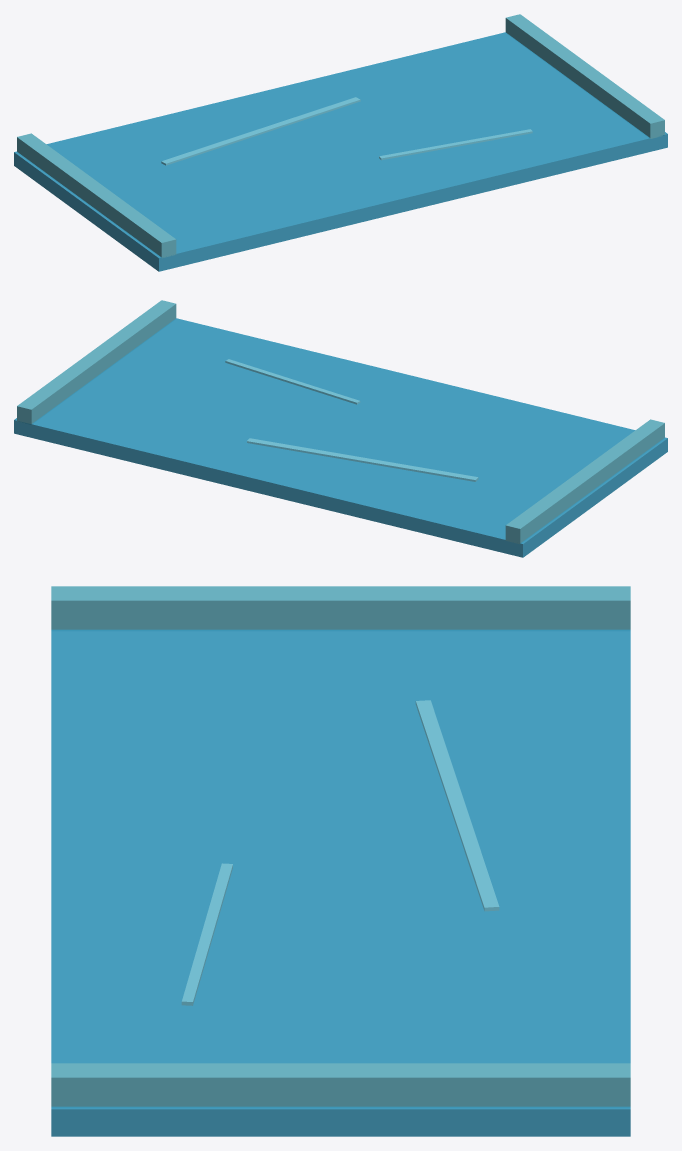
The model's file is track_water_slide_3lane.glb.
3 views of the same model, one above another, from view 1: azimuth 30°, elevation 25°; view 2: azimuth 150°, elevation 25°; view 3: azimuth 270°, elevation 25° (orthographic). The views are drawn at different scales.
Visible parts, largest first — view 1: track_water_slide_3lane; view 2: track_water_slide_3lane; view 3: track_water_slide_3lane.
Part boxes in pixels (left/top/right/bottom): track_water_slide_3lane: left=14, top=14, right=667, bottom=271; track_water_slide_3lane: left=14, top=300, right=667, bottom=557; track_water_slide_3lane: left=51, top=586, right=630, bottom=1136.
Bounding box in the file's own units: 6.25 × 0.33 × 3.08.
